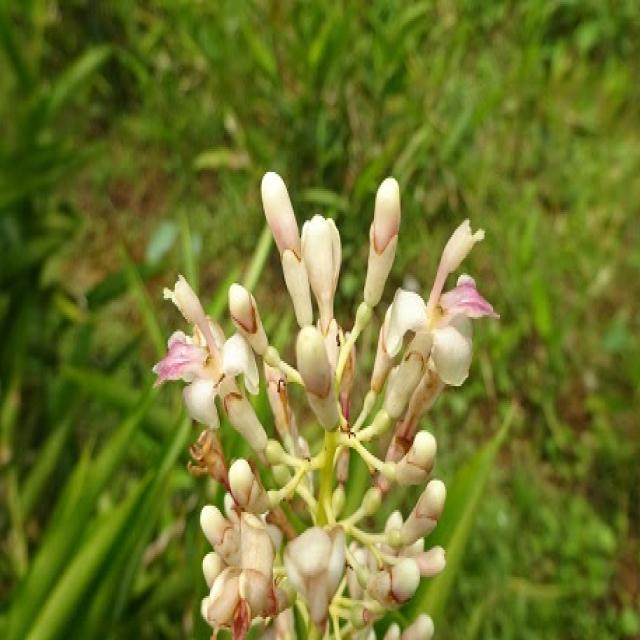Aquatic-Ginger: (151, 172, 500, 640)
